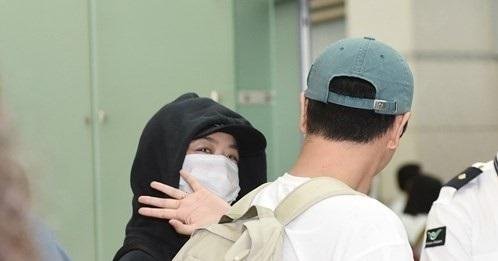OK: (178, 135, 242, 209)
